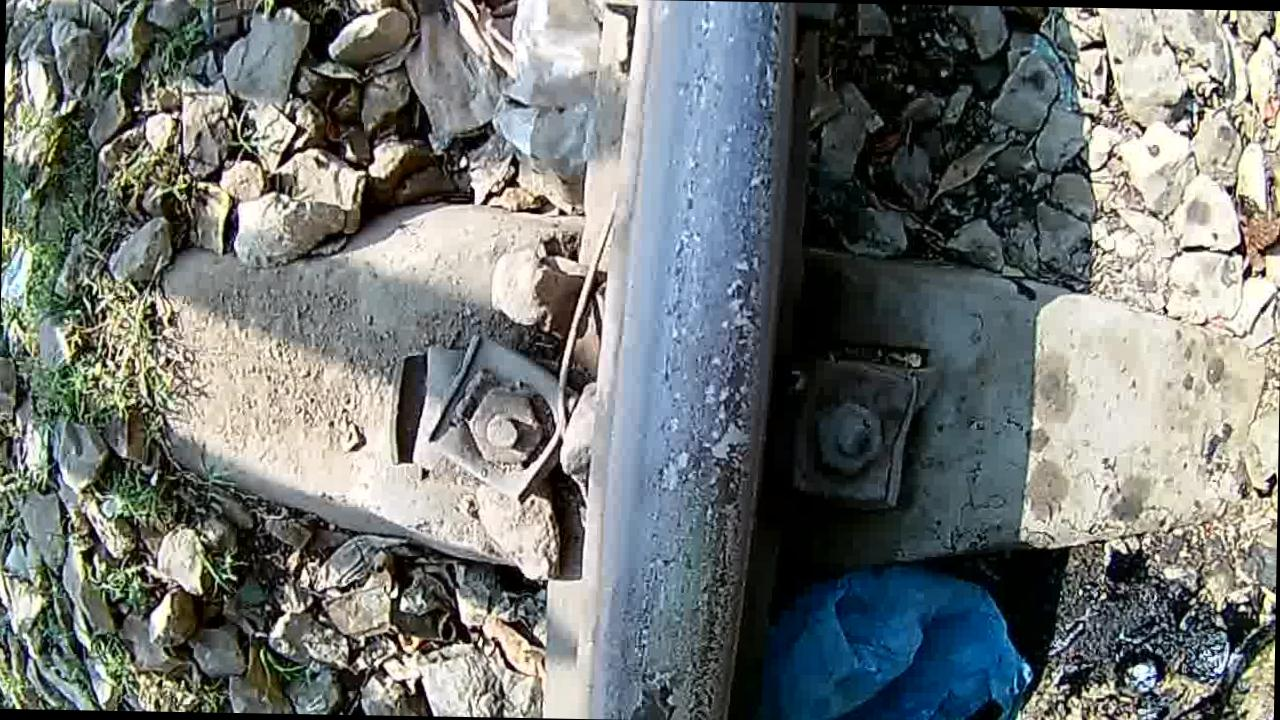clip_missing: (595, 0, 793, 720)
